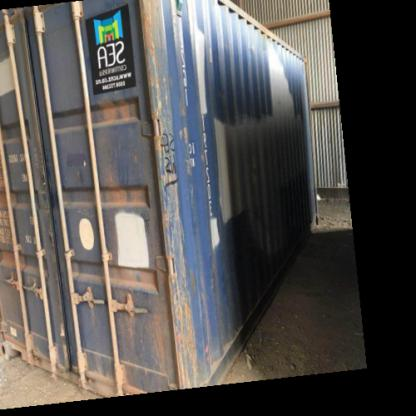Damage: (151, 239, 209, 397), (92, 97, 142, 139), (154, 121, 182, 190), (101, 179, 149, 209), (205, 39, 271, 57)
